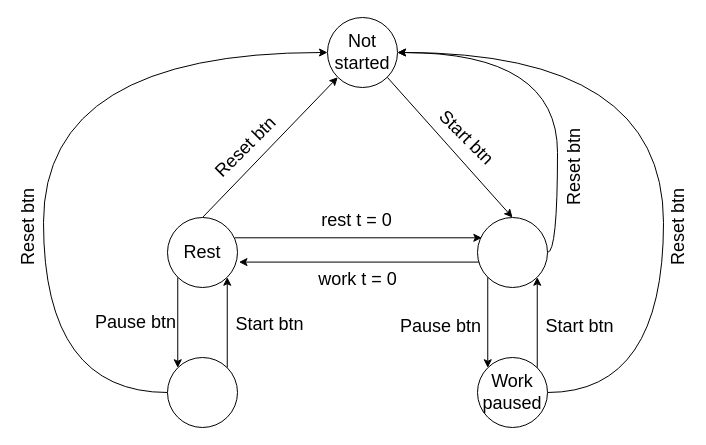
Image size: 706x445. Some labels were removed from this diagram. The shapes that lost their labels are listed below. From the top down, each one's centre as x and y in pixels, then its label:
At point 512,252: "Work".
At point 202,392: "Rest paused".
